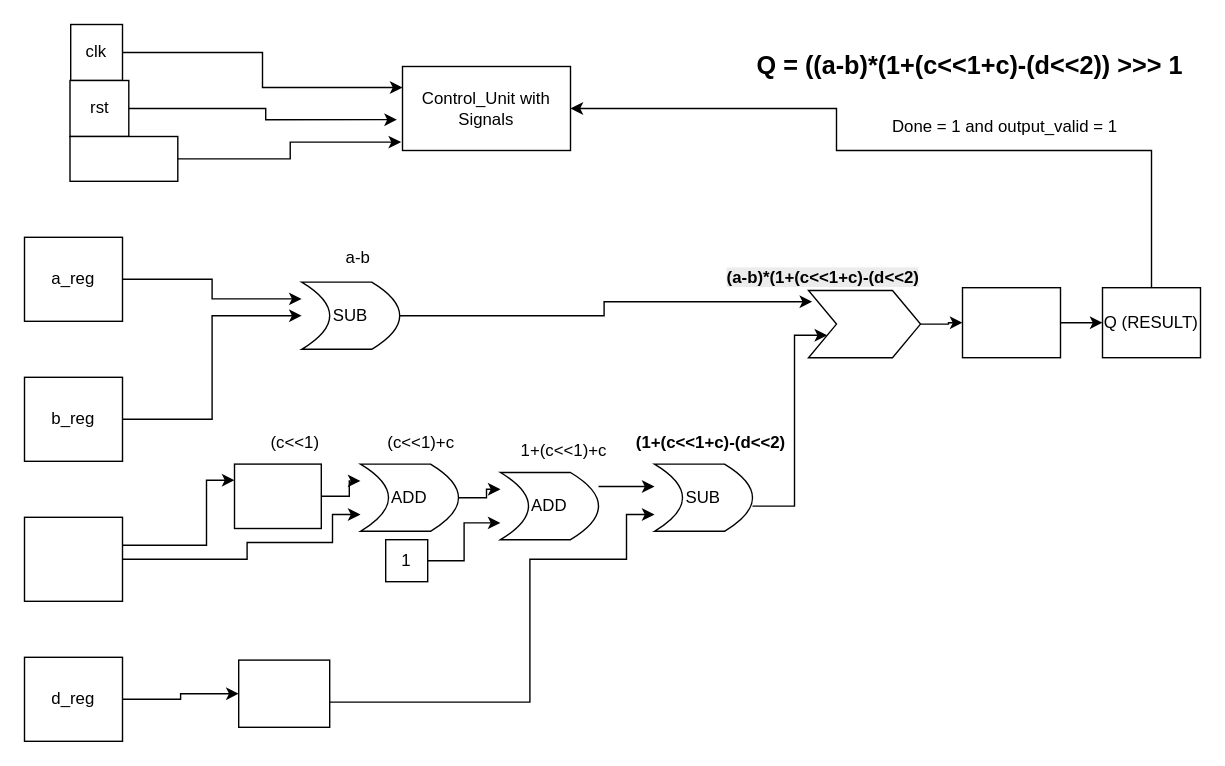
This 1225x766 diagram has some shape labels left out. The box of each missing label's shape, as (x1, y1, x2, y2) in pixels:
<<1 (SHIFT-LEFT 1 bit): (233, 463, 321, 528)
<<2 (SHIFT-LEFT 2 bit): (237, 659, 330, 727)
>>>1 (SHIFT-RIGHT 1 bit): (961, 286, 1060, 358)
c_reg: (23, 516, 122, 601)
input_valid: (69, 135, 178, 181)
MUL: (807, 289, 920, 358)
